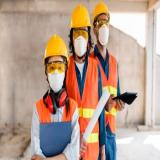Helmet: (43, 32, 70, 68), (69, 4, 92, 34), (92, 0, 111, 22)
Vest: (67, 55, 99, 160), (36, 96, 78, 157), (90, 49, 117, 137)
